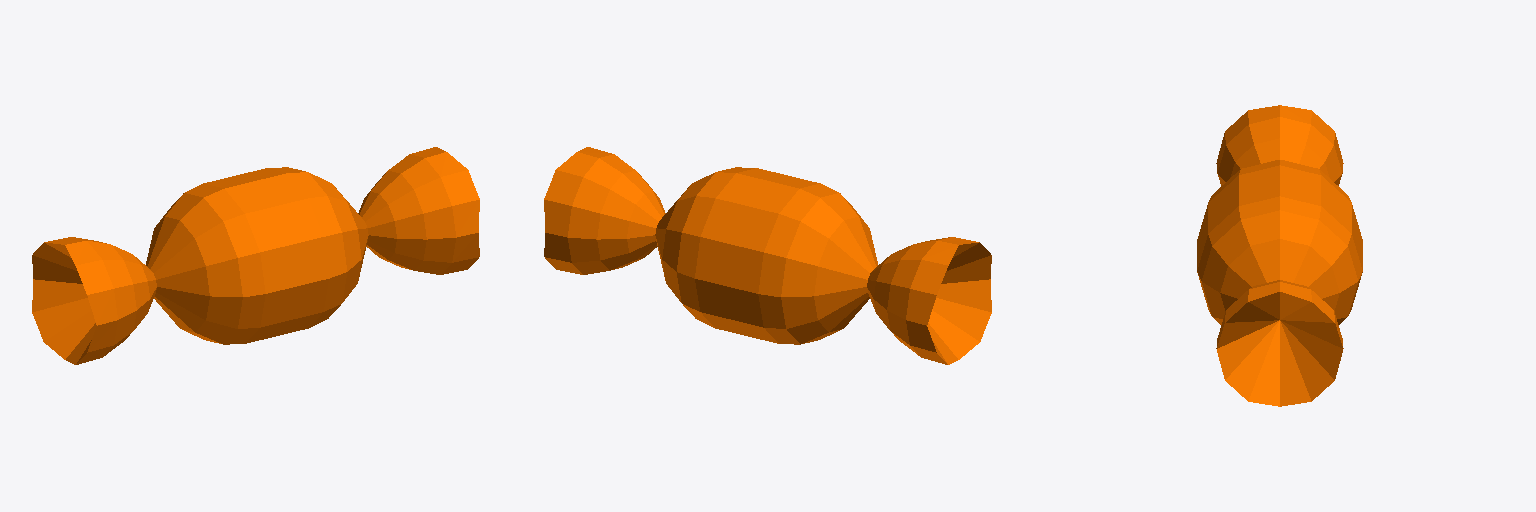
File: candyD.obj
The picture shows the model from 3 angles: view 1: azimuth 30°, elevation 25°; view 2: azimuth 150°, elevation 25°; view 3: azimuth 270°, elevation 25°; orthographic projection.
Parts seen in each view (by area): view 1: candyD_Cylinder.010; view 2: candyD_Cylinder.010; view 3: candyD_Cylinder.010.
Part boxes in pixels (x1,y1,x2,y2): candyD_Cylinder.010: (32,147,479,364); candyD_Cylinder.010: (544,147,991,364); candyD_Cylinder.010: (1197,105,1362,406).
Bounding box in the file's own units: 0.9694 × 0.3546 × 0.3546.